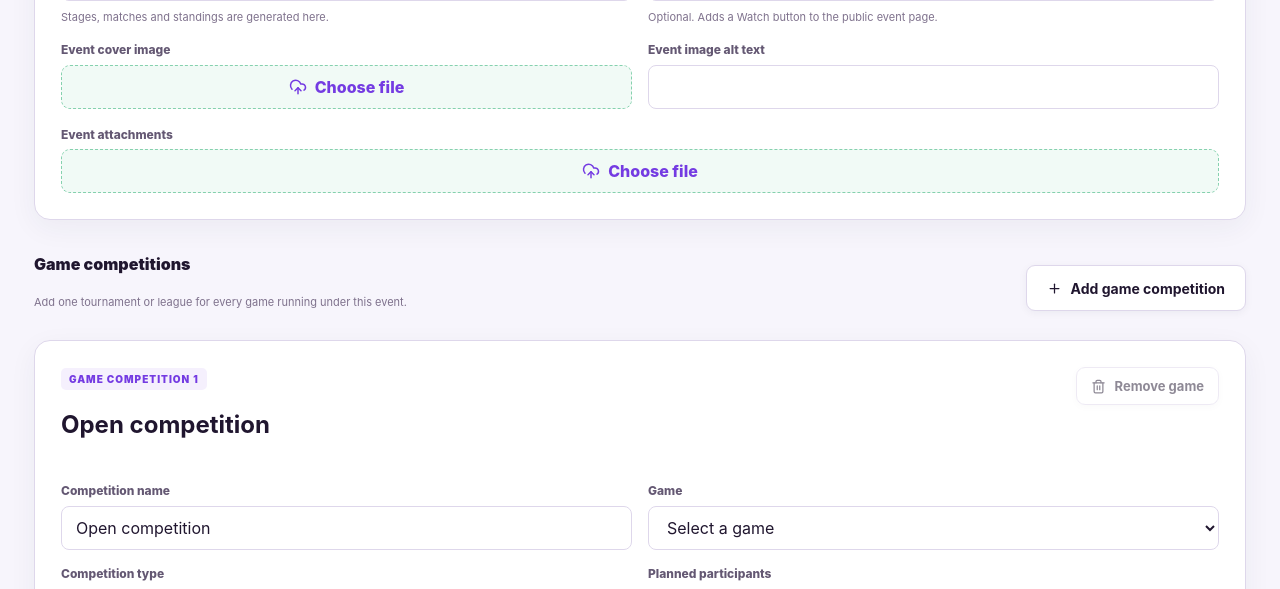
Scenario: TournamentBuilder › adds multiple game competitions under one event
(page scrolled)
Click the button "Add game competition": (1136, 288) [1026,265,1246,311]
(page scrolled)
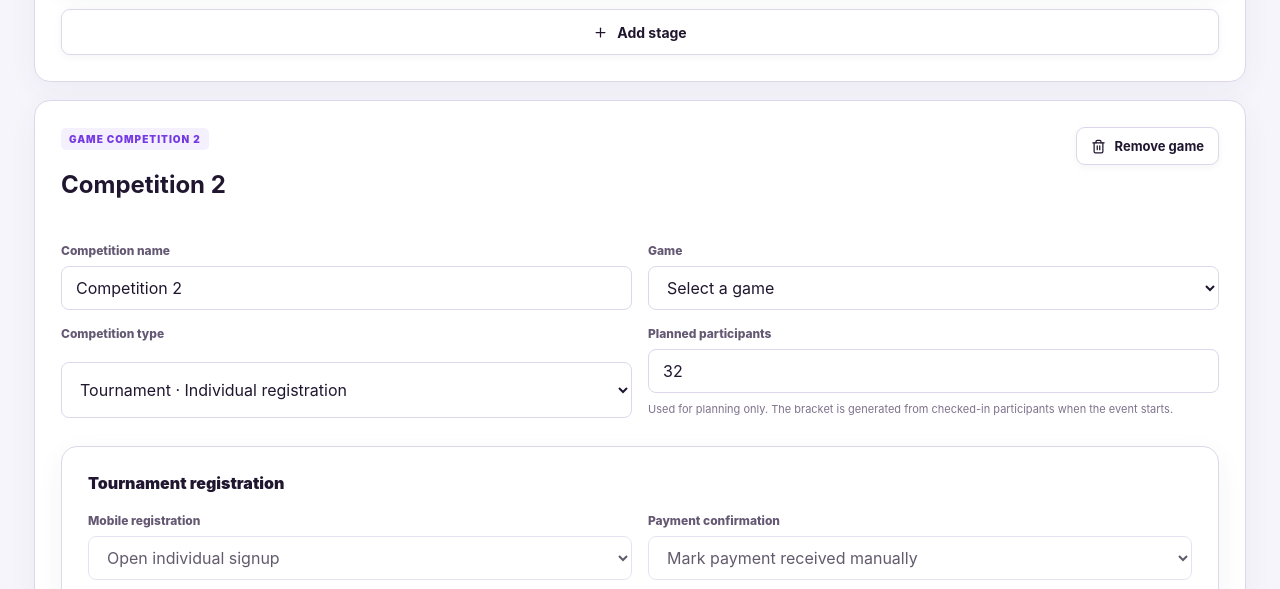
Now the text "GAME COMPETITION 2" is shown, box [61,128,209,150]
Now the dropdown labelled "Game" shows "Select a game", box [648,266,1219,310]
